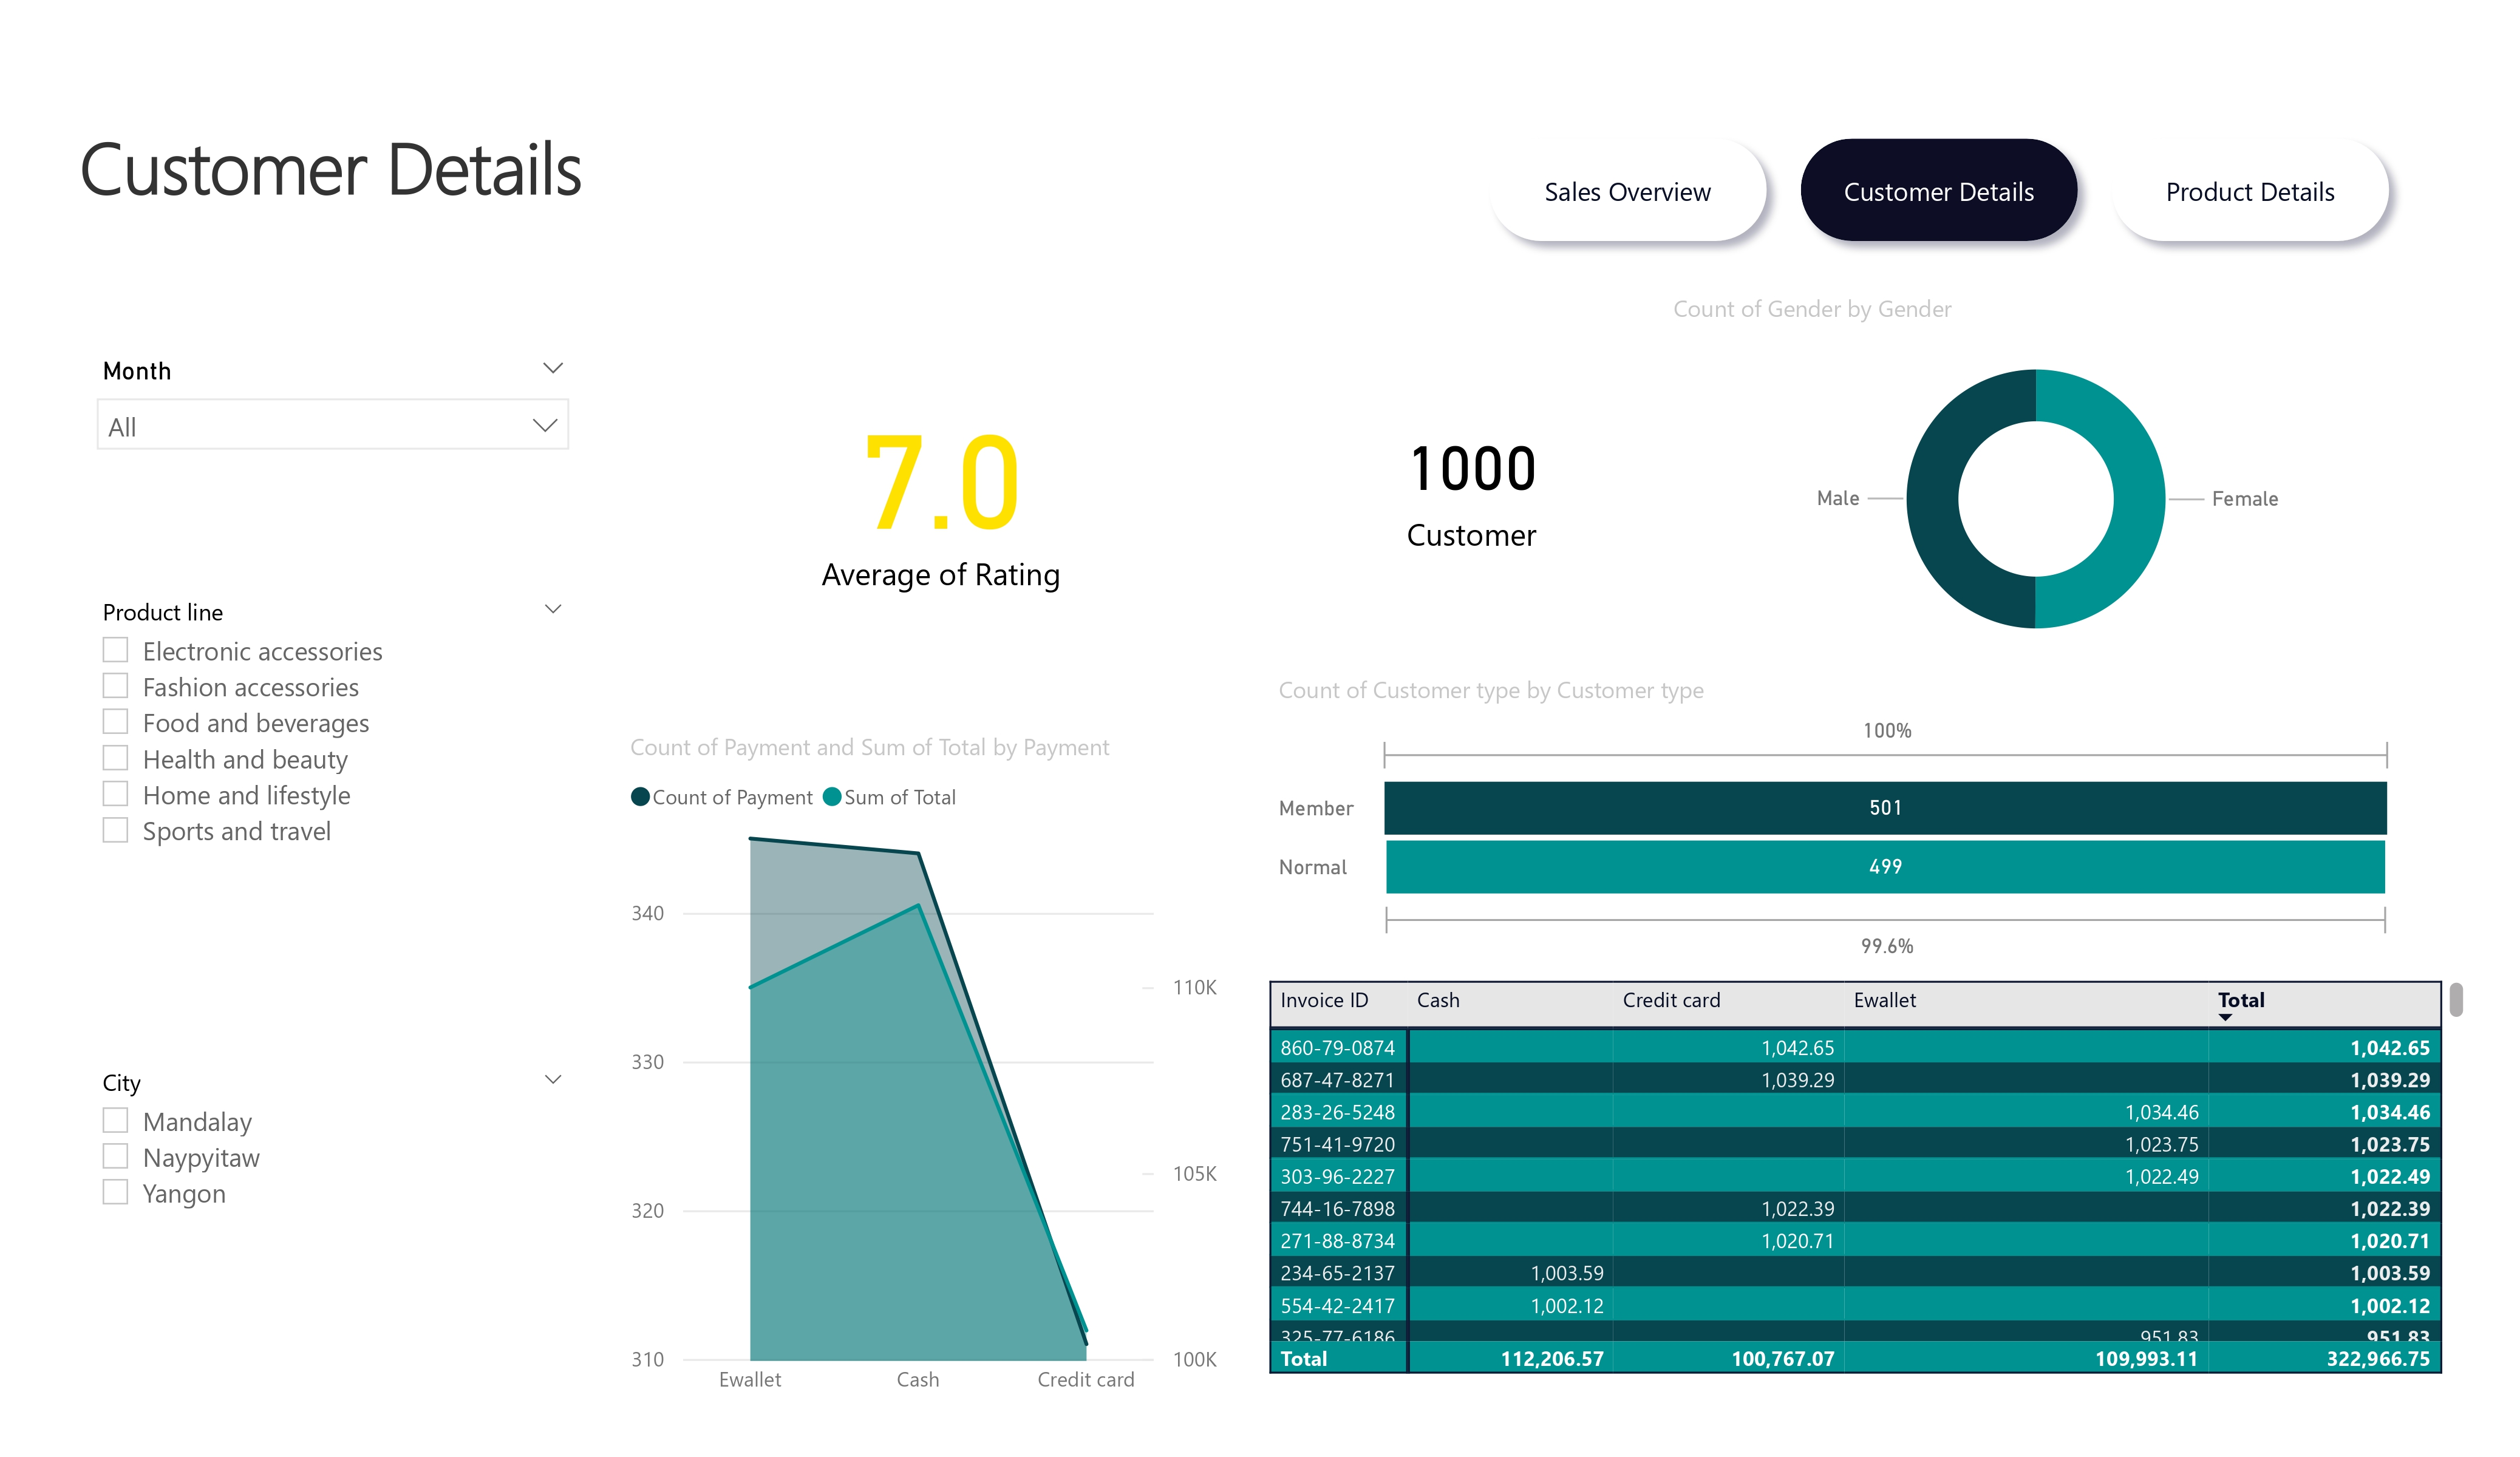

This screenshot's page, from the dashboard's own definition file:
{"tool":"powerbi","page":{"name":"Customer Details","canvas":[1280,720],"ordinal":1},"visuals":[{"type":"textbox","box":[12.9,32.9,350,78.6],"z":0},{"type":"pageNavigator","box":[751.7,40,493.3,71.7],"z":1000},{"type":"slicer","fields":{"Values":["supermarket_sales - Sheet1 (2).Date.Variation.Date Hierarchy.Month"]},"box":[17.1,158.6,268.6,64.3],"z":2000},{"type":"slicer","fields":{"Values":["supermarket_sales - Sheet1 (2).Product line"]},"box":[16.7,285,268.3,240],"z":3000},{"type":"slicer","fields":{"Values":["supermarket_sales - Sheet1 (2).City"]},"box":[16.7,533.3,268.3,171.7],"z":4000},{"type":"card","fields":{"Values":["Avg(supermarket_sales - Sheet1 (2).Rating)"]},"box":[303.2,138.1,337.4,185.8],"z":5000},{"type":"areaChart","fields":{"Category":["supermarket_sales - Sheet1 (2).Payment"],"Y2":["Sum(supermarket_sales - Sheet1 (2).Total)"],"Y":["CountNonNull(supermarket_sales - Sheet1 (2).Payment)"]},"box":[303.2,360.6,320.3,359.4],"z":7000},{"type":"donutChart","fields":{"Category":["supermarket_sales - Sheet1 (2).Gender"],"Y":["CountNonNull(supermarket_sales - Sheet1 (2).Gender)"]},"box":[853.3,130,391.7,201.7],"z":8000},{"type":"funnel","fields":{"Category":["supermarket_sales - Sheet1 (2).Customer type"],"Y":["CountNonNull(supermarket_sales - Sheet1 (2).Customer type)"]},"box":[645.4,331.3,599,156.5],"z":9000},{"type":"pivotTable","fields":{"Rows":["supermarket_sales - Sheet1 (2).Invoice ID"],"Values":["Sum(supermarket_sales - Sheet1 (2).Total)"],"Columns":["supermarket_sales - Sheet1.Payment"]},"box":[640,487.5,640,217.5],"z":10000},{"type":"card","fields":{"Values":["CountNonNull(supermarket_sales - Sheet1 (2).Gender)"]},"box":[645,161.7,213.3,138.3],"z":11000}]}

Visuals, with their boxes in screenshot pixels (x1, y1, x2, y2):
textbox: left=70, top=108, right=734, bottom=257
pageNavigator: left=1472, top=121, right=2408, bottom=257
slicer - supermarket_sales - Sheet1 (2).Date.Variation.Date Hierarchy.Month: left=78, top=347, right=588, bottom=469
slicer - supermarket_sales - Sheet1 (2).Product line: left=77, top=586, right=587, bottom=1042
slicer - supermarket_sales - Sheet1 (2).City: left=77, top=1058, right=587, bottom=1383
card - Avg(supermarket_sales - Sheet1 (2).Rating): left=621, top=308, right=1261, bottom=660
areaChart - supermarket_sales - Sheet1 (2).Payment x Sum(supermarket_sales - Sheet1 (2).Total): left=621, top=730, right=1228, bottom=1411
donutChart - supermarket_sales - Sheet1 (2).Gender x CountNonNull(supermarket_sales - Sheet1 (2).Gender): left=1665, top=292, right=2408, bottom=675
funnel - supermarket_sales - Sheet1 (2).Customer type x CountNonNull(supermarket_sales - Sheet1 (2).Customer type): left=1270, top=674, right=2407, bottom=971
pivotTable - supermarket_sales - Sheet1 (2).Invoice ID x Sum(supermarket_sales - Sheet1 (2).Total): left=1260, top=970, right=2474, bottom=1383
card - CountNonNull(supermarket_sales - Sheet1 (2).Gender): left=1270, top=352, right=1674, bottom=614
